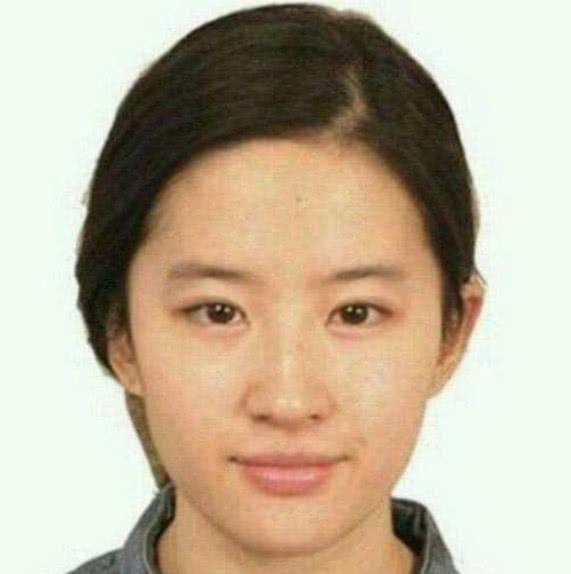unmask: (145, 173, 442, 539)
